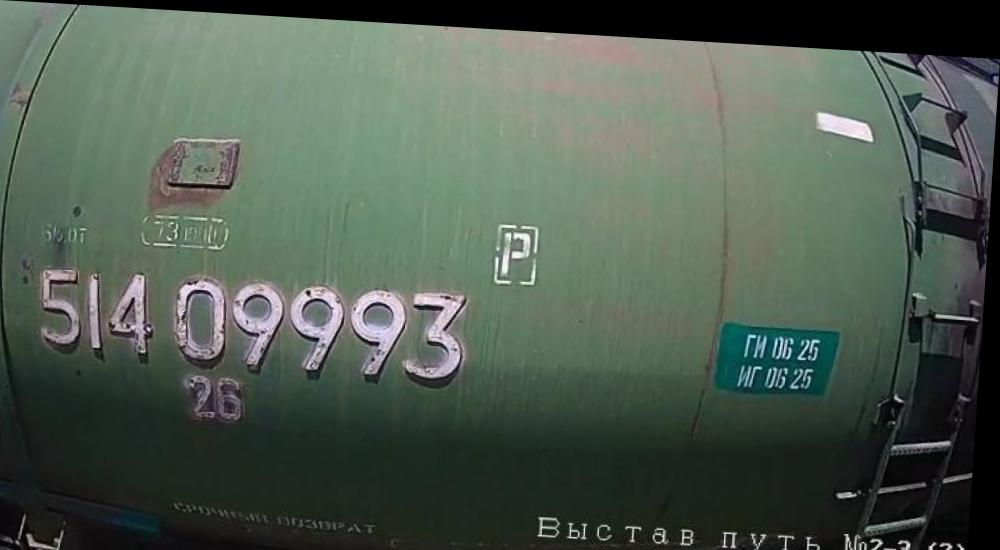Wagon-number: (32, 255, 481, 384)
